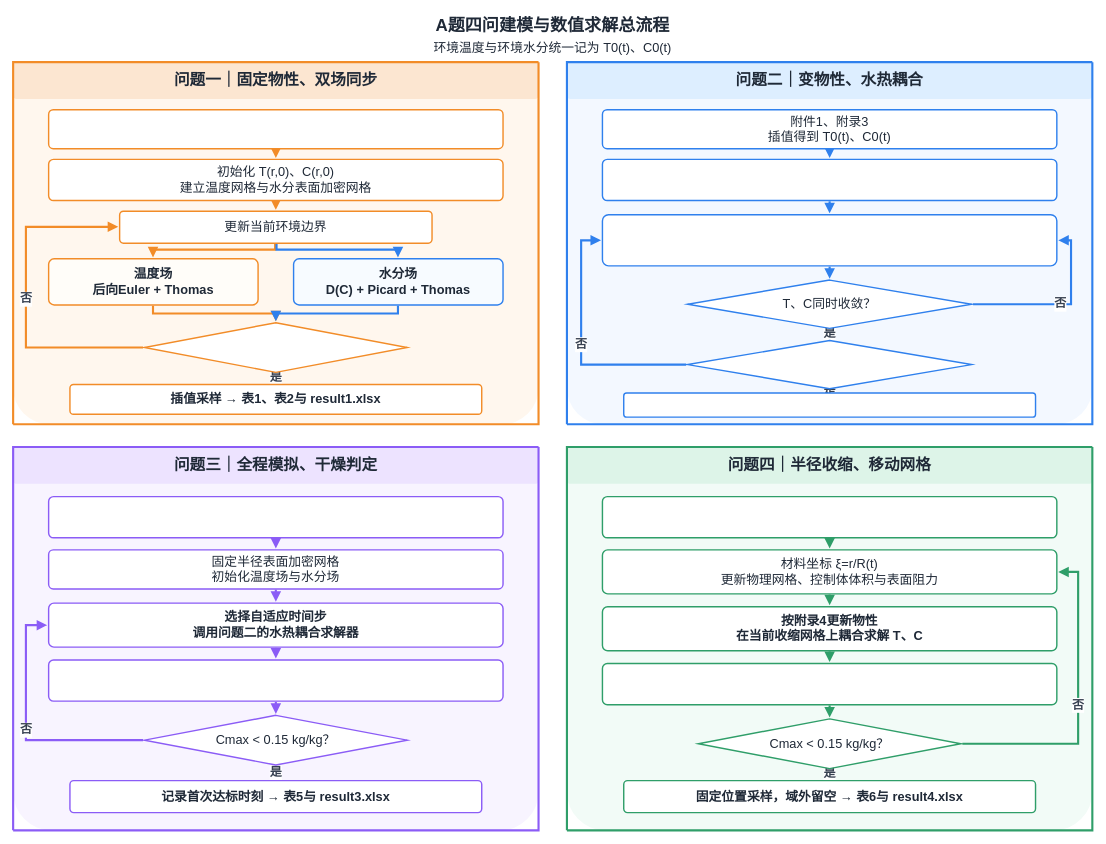
Image size: 1106x844. Some labels were removed from this diagram. The shapes that lost their labels are listed below. From the top down, each one's box as (x1, y1, x2, y2) in pixels, then its label:
(48, 109, 503, 149): 附件1、附录2 插值得到 T0(t)、C0(t)
(601, 158, 1057, 201): 固定半径表面加密网格 初始化 T、C，时间步 Δt=0.5 s
(601, 214, 1057, 266): 读取当前 T0、C0 并进入 Picard 耦合 C→ρ、cp、k→T；T、C→D(T,C)→C
(143, 322, 408, 373): t = 1800 s？
(687, 339, 972, 389): t = 3 h？
(623, 392, 1036, 417): 重构与采样 → 表3、表4与 result2.xlsx
(48, 496, 503, 538): 0～4 h：附件1的 T0(t)、C0(t) 4 h后：采用3～4 h时间加权平均值
(601, 496, 1057, 538): 附件1给出 T0(t)、C0(t) 附件2插值得到动态半径 R(t)
(48, 659, 503, 701): 重构中心、内部节点与表面值 计算全域最大水分 Cmax
(601, 662, 1057, 705): 重构中心值与移动表面值 计算全域最大水分 Cmax
